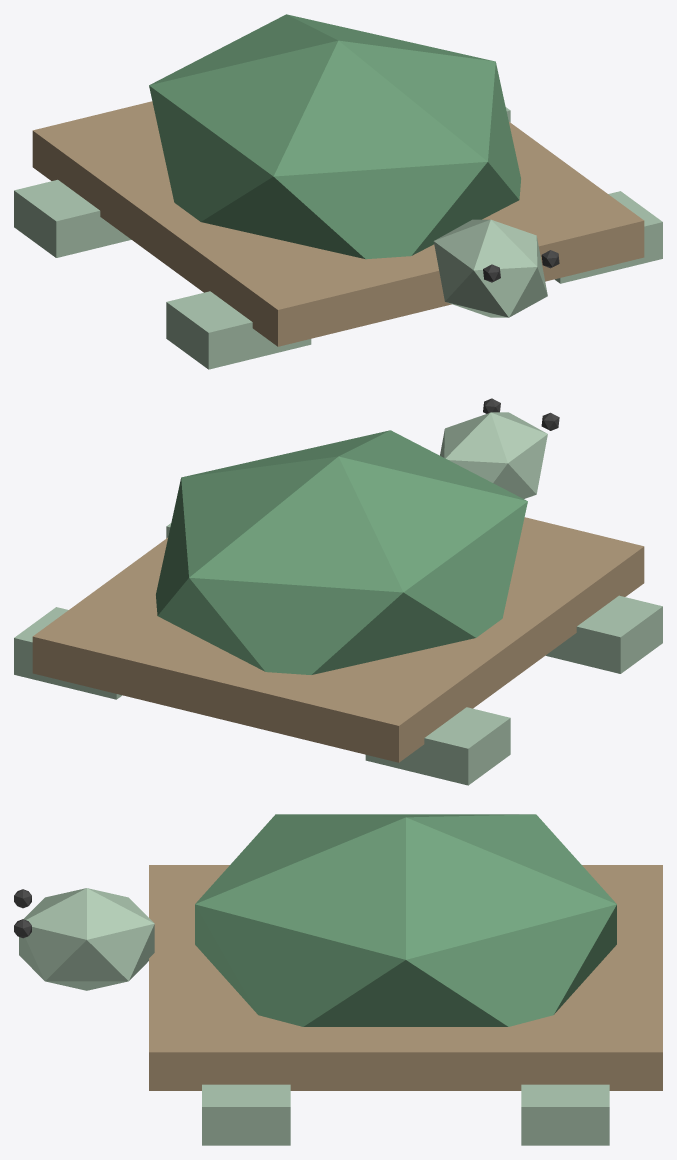
The model's file is Turtle.fbx.
3 views of the same model, one above another, from view 1: azimuth 30°, elevation 25°; view 2: azimuth 150°, elevation 25°; view 3: azimuth 270°, elevation 25° (orthographic). The views are drawn at different scales.
Parts seen in each view (by area): view 1: Body, Limb_Head; view 2: Body, Limb_Head; view 3: Body, Limb_Head.
Part boxes in pixels (x1,y1,x2,y2): Body: (14, 14, 662, 369); Limb_Head: (433, 219, 559, 317); Body: (14, 430, 662, 785); Limb_Head: (440, 398, 559, 498); Body: (149, 814, 662, 1145); Limb_Head: (14, 888, 154, 990).
Size of the model in its own units: 1.55 by 0.7 by 1.83.
